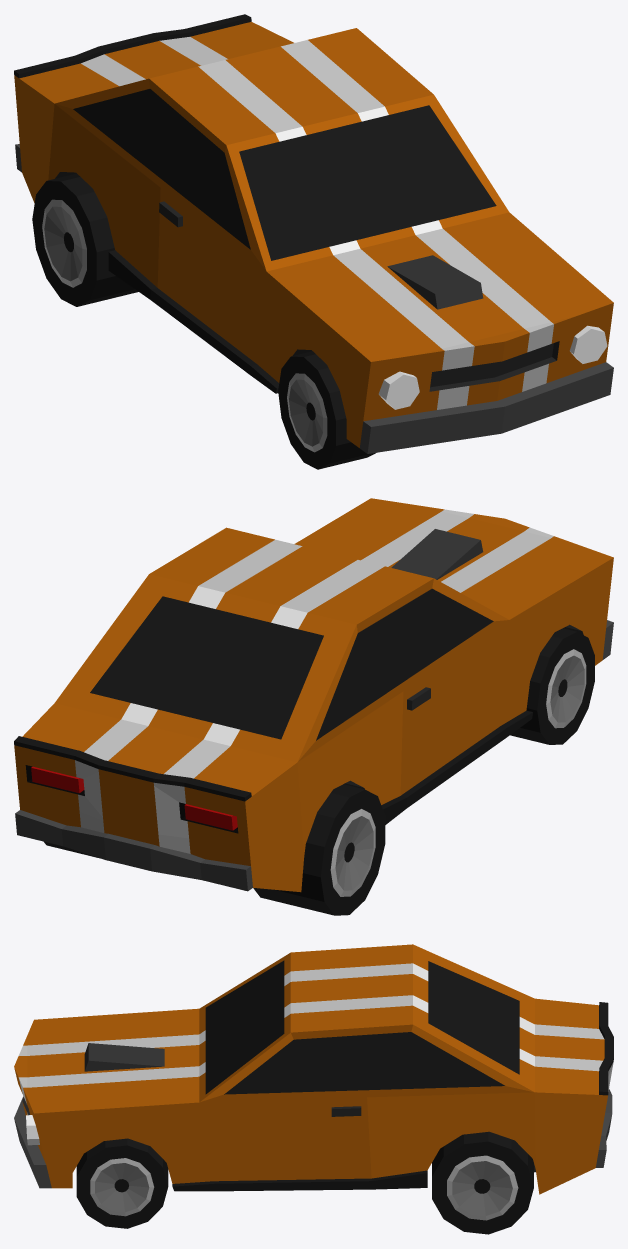
The model's file is MuscleMusiu.fbx.
The picture shows the model from 3 angles, top to bottom: view 1: azimuth 30°, elevation 25°; view 2: azimuth 150°, elevation 25°; view 3: azimuth 270°, elevation 25°; orthographic projection. The views are drawn at different scales.
Visible parts, largest first — view 1: CarBody, Wheel_BR, Wheel_FR; view 2: CarBody, Wheel_BR, Wheel_FR; view 3: CarBody, Wheel_BL, Wheel_FL.
Boxes of the visible parts, x1,y1,x2,y2 form: CarBody: (14,14,613,453); Wheel_BR: (32,173,138,306); Wheel_FR: (278,351,376,469); CarBody: (14,498,613,892); Wheel_BR: (253,784,385,915); Wheel_FR: (510,628,594,744); CarBody: (14,944,613,1194); Wheel_BL: (432,1131,533,1234); Wheel_FL: (76,1138,168,1228).
Bounding box in the file's own units: 167 × 135 × 377.
